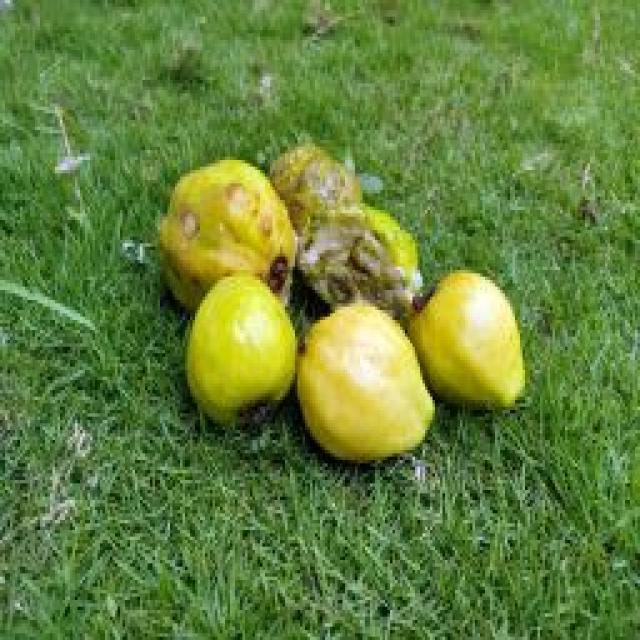Organik: (282, 292, 431, 479), (143, 148, 297, 315), (405, 259, 542, 417), (179, 277, 299, 428), (294, 182, 418, 302), (254, 124, 365, 228)
